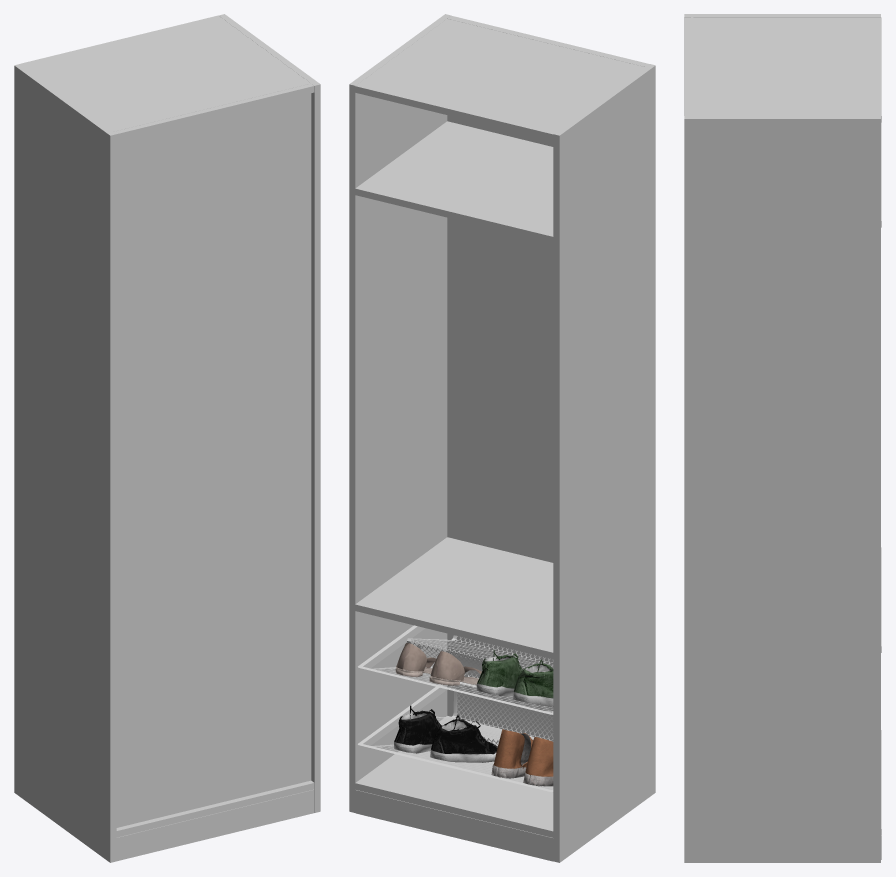
File: 01685_Bundle_A.gltf
The picture shows the model from 3 angles, left to right: view 1: azimuth 30°, elevation 25°; view 2: azimuth 150°, elevation 25°; view 3: azimuth 270°, elevation 25°; orthographic projection. The views are drawn at different scales.
Visible parts, largest first — view 1: Wardrobe Base; view 2: Wardrobe Base, Shelf (×2), Shoe_3-Shoes_3, Shoe_4-Shoes_4, Shoe_2-Shoes_2, Shoe Rack.1-White Mesh, Shoe Rack.2-White Mesh, Shoes_1-Shoes_1, Shoe Rack.1-Gloss White, Shoe Rack.2-Gloss White; view 3: Wardrobe Base.
Part boxes in pixels (x1,y1,x2,y2): Wardrobe Base: [14, 14, 320, 862]; Wardrobe Base: [349, 14, 655, 862]; Shelf (×2): [355, 121, 553, 659]; Shoe_3-Shoes_3: [393, 705, 497, 762]; Shoe_4-Shoes_4: [476, 649, 553, 706]; Shoe_2-Shoes_2: [491, 729, 553, 786]; Shoe Rack.1-White Mesh: [378, 685, 553, 788]; Shoe Rack.2-White Mesh: [378, 636, 553, 711]; Shoes_1-Shoes_1: [395, 643, 481, 685]; Shoe Rack.1-Gloss White: [358, 682, 553, 792]; Shoe Rack.2-Gloss White: [358, 625, 553, 714]; Wardrobe Base: [684, 14, 881, 862].
Size of the model in its own units: 0.6059 by 2 by 0.4804.
Materials: 8 (5 with a texture image).
